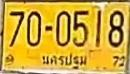0: (55, 10, 70, 46), (26, 10, 41, 46)
1: (95, 10, 101, 46)
5: (72, 9, 88, 46)
7: (9, 10, 24, 46)
8: (107, 9, 123, 46)
NPT: (39, 51, 89, 70)
